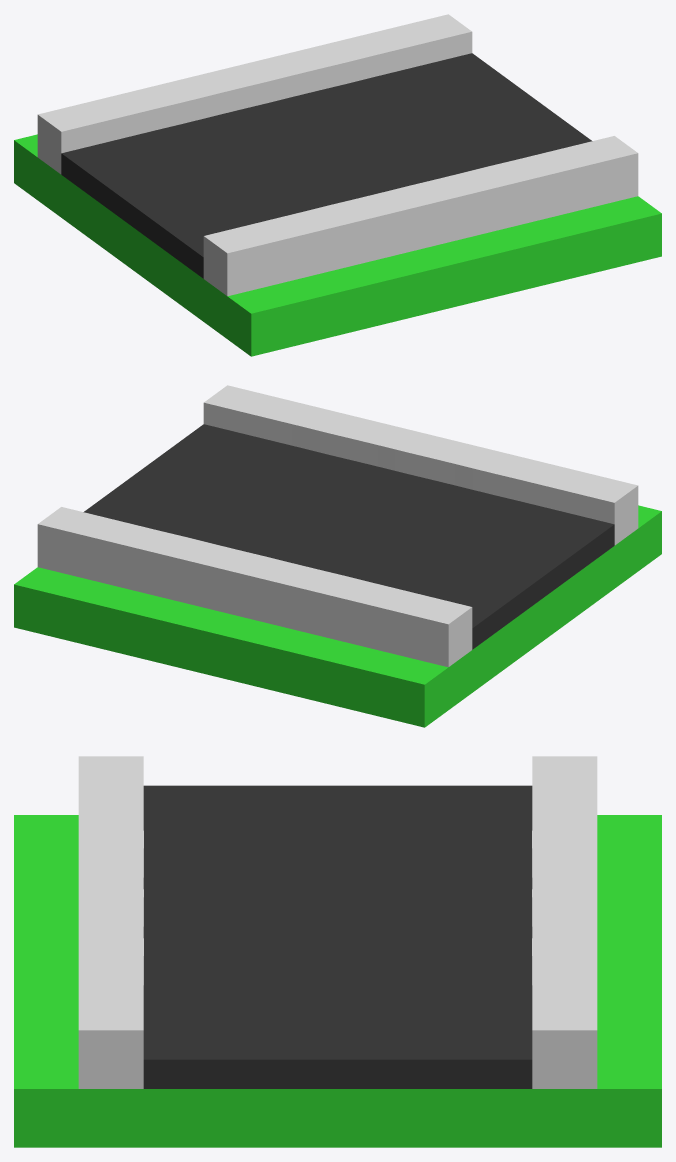
File: NormalRoad.fbx
3 renders of one model, top to bottom at view 1: azimuth 30°, elevation 25°; view 2: azimuth 150°, elevation 25°; view 3: azimuth 270°, elevation 25°, orthographic. The views are drawn at different scales.
Visible parts, largest first — view 1: Street_Normal; view 2: Street_Normal; view 3: Street_Normal.
Boxes of the visible parts, x1=… form: Street_Normal: x1=14, y1=14, x2=661, y2=356; Street_Normal: x1=14, y1=385, x2=661, y2=727; Street_Normal: x1=14, y1=756, x2=661, y2=1147.
Size of the model in its own units: 200 by 40 by 200.
